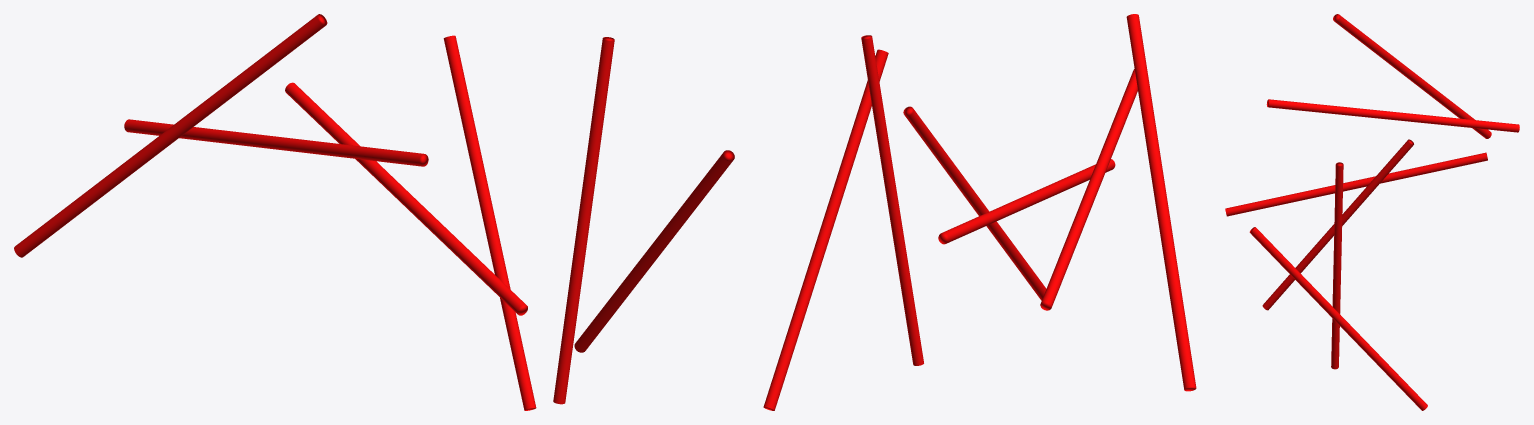
File: candidate.gltf
3 views of the same model, side by side, from view 1: azimuth 30°, elevation 25°; view 2: azimuth 150°, elevation 25°; view 3: azimuth 270°, elevation 25° (orthographic). The views are drawn at different scales.
Size of the model in its own units: 18.97 by 15.85 by 14.38.
